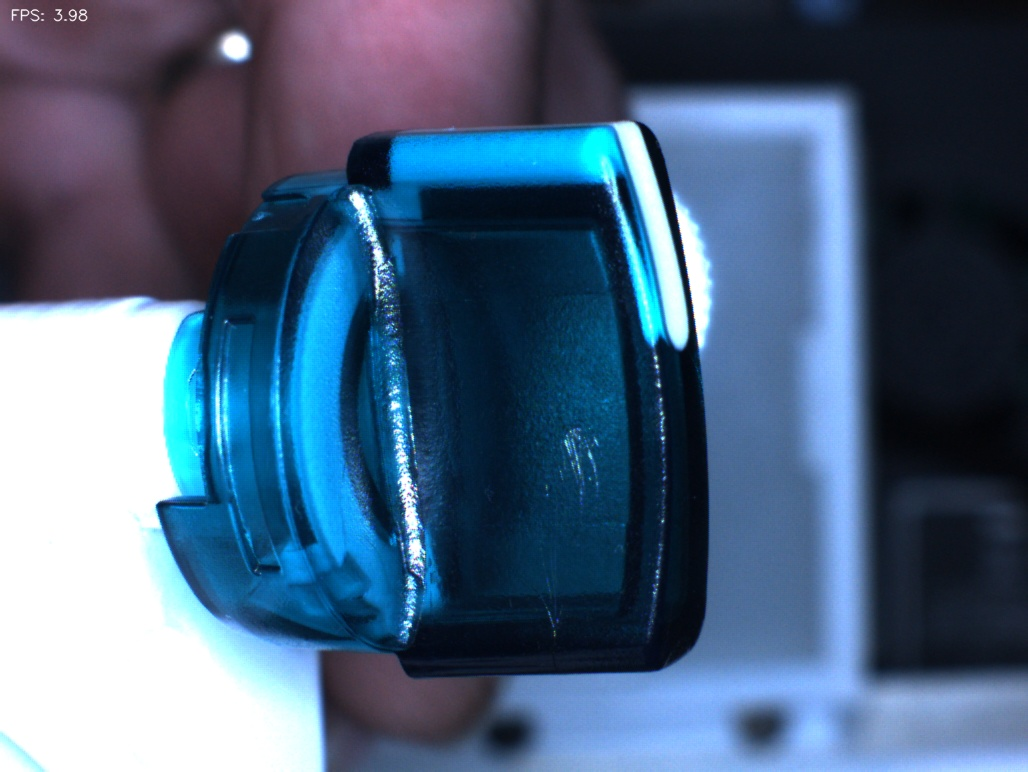Givrage: (511, 414, 626, 640)
